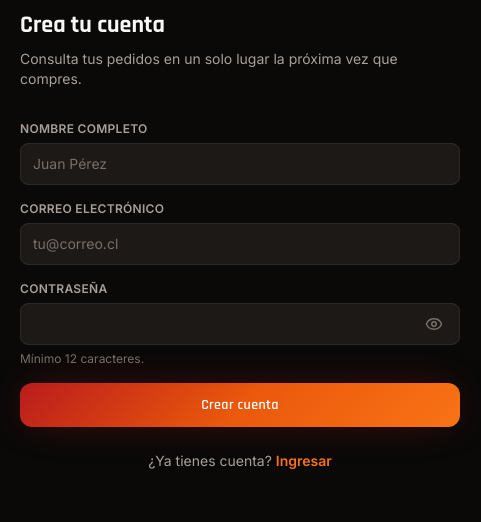
Test case: RegisterPage › orients to login instead of revealing account details when the email is already registered
In the field labelled "Nombre completo": point(240, 164) [20,143,460,185], type "Alguien"
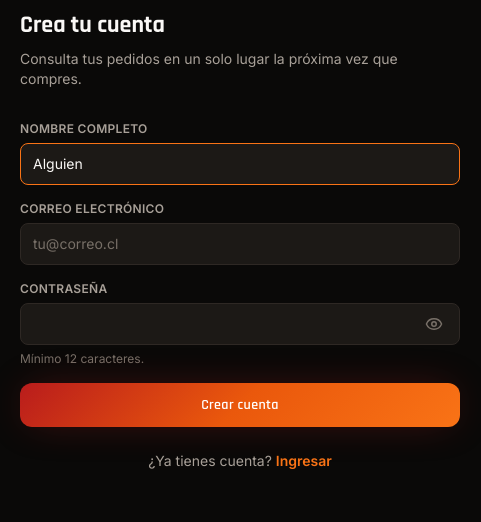
In the field labelled "Correo electrónico": point(240, 244) [20,223,460,265], type "ya-existe@example.com"
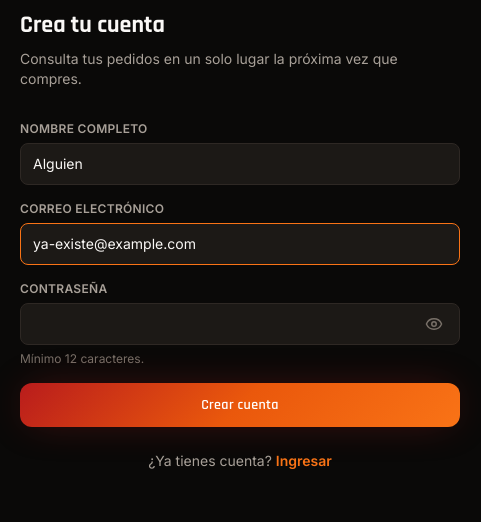
In the password field labelled "Contraseña": point(240, 324) [20,303,460,345], type "correct horse battery staple"
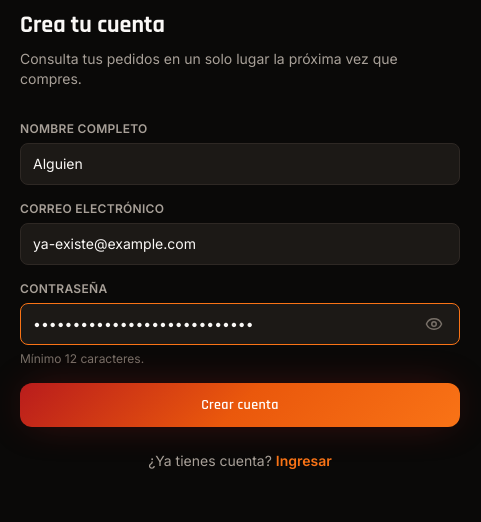
Click the button "Crear cuenta": point(240, 405) [20,383,460,427]
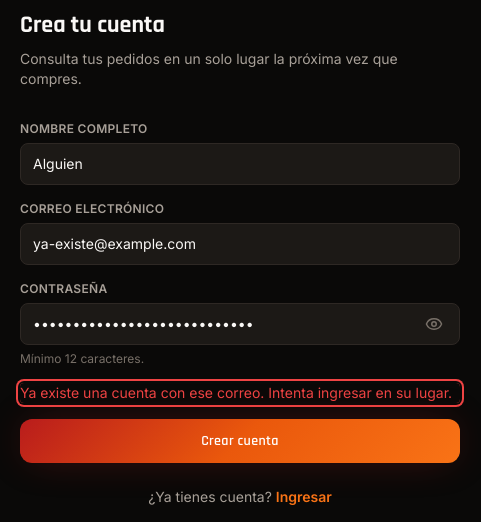
Expected: the message reads "Ya existe una cuenta con ese correo. Intenta ingresar en su lugar.", [20,384,452,401]
